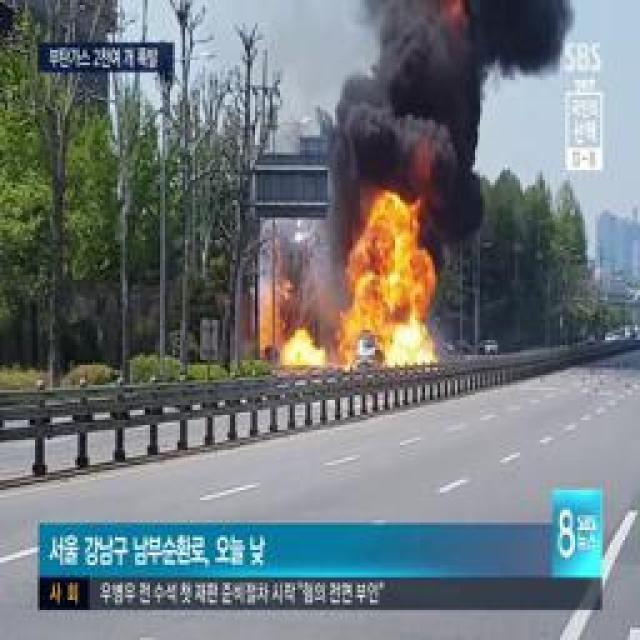Fire: (341, 203, 432, 364), (285, 330, 322, 366), (262, 275, 276, 350)
